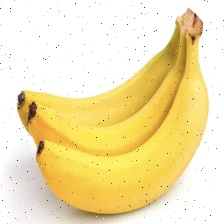banana: (59, 56, 201, 201)
